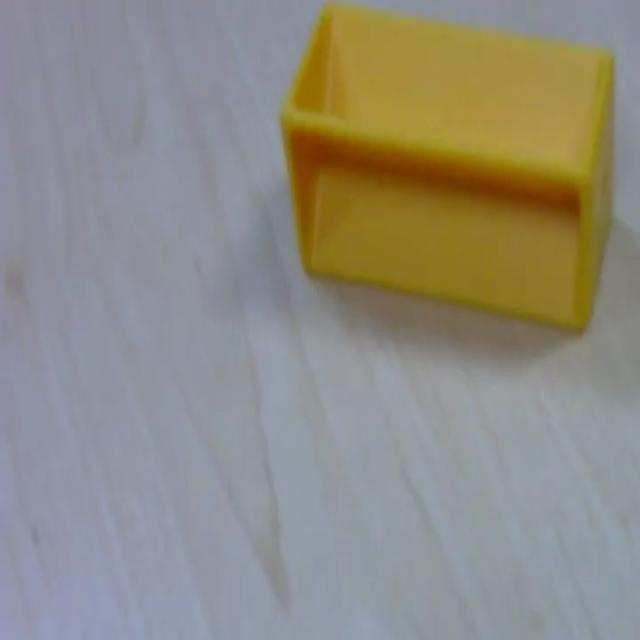yellow_block: (278, 1, 616, 334)
